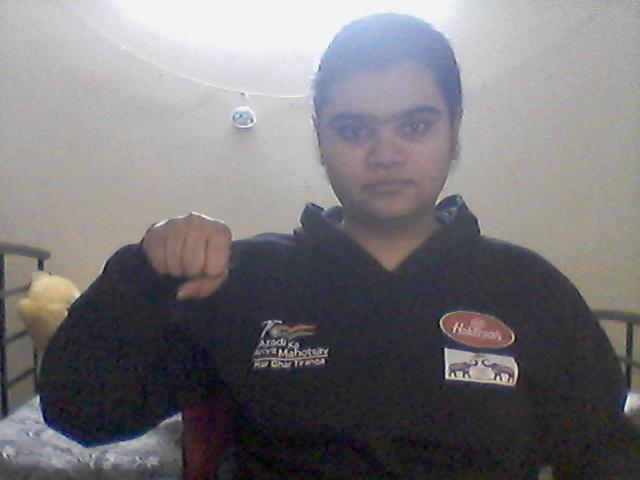yes: (139, 208, 239, 300)
